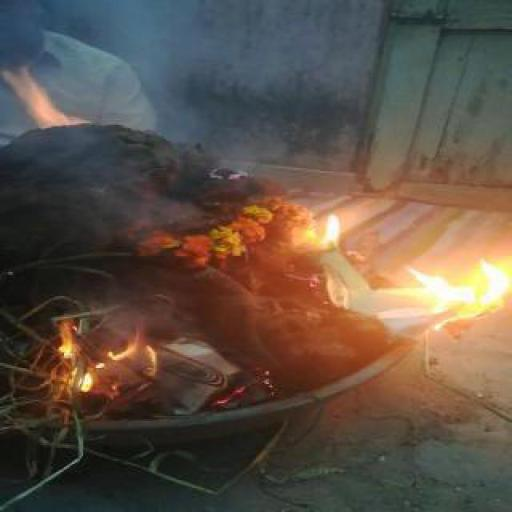smoke: (381, 254, 509, 330), (48, 322, 166, 395), (8, 67, 78, 130), (308, 205, 346, 254)
